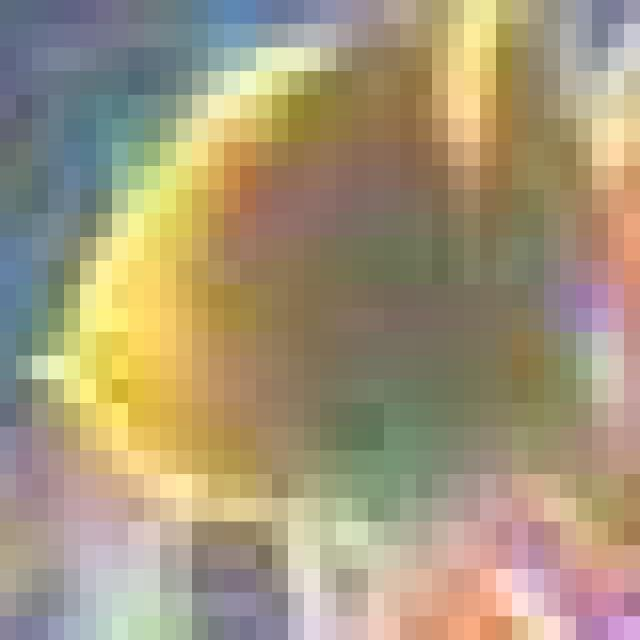fish: (16, 0, 640, 617)
